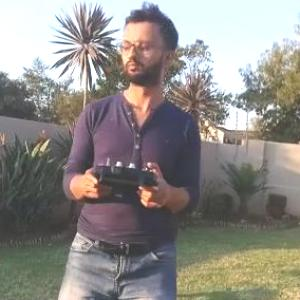follow: (56, 0, 202, 299)
